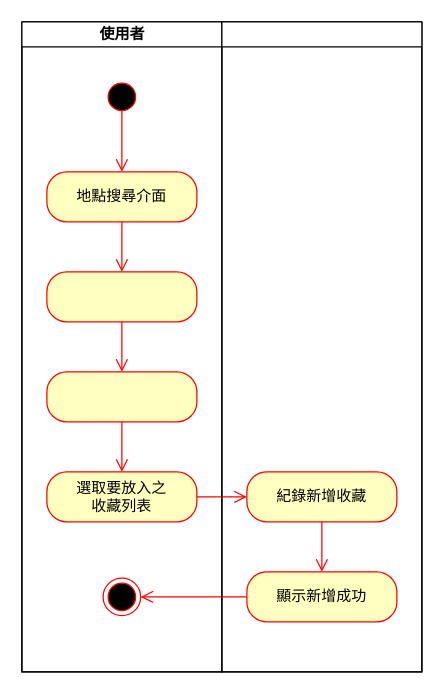
Some shapes in this 444 by 694 pixel diagram are drawn without their labels. Each missing label, with the centre of its shape:
系統: pixel 321 346
選擇地點: pixel 121 296
點選收藏: pixel 121 396
